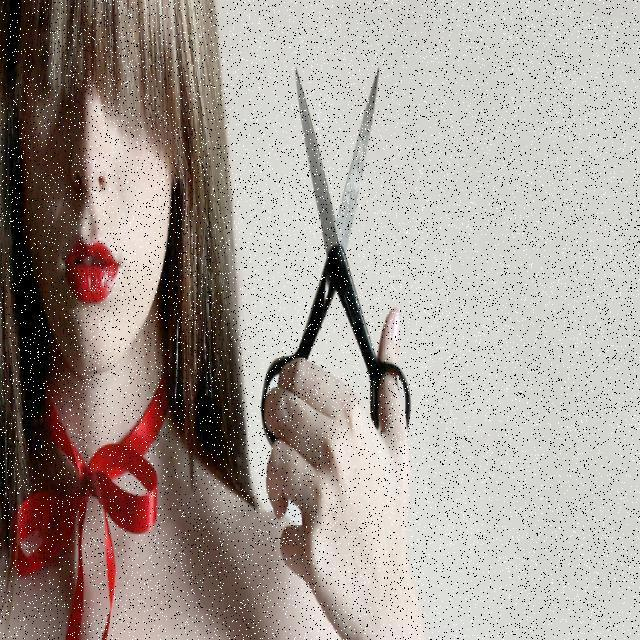scissors: (258, 63, 412, 484)
